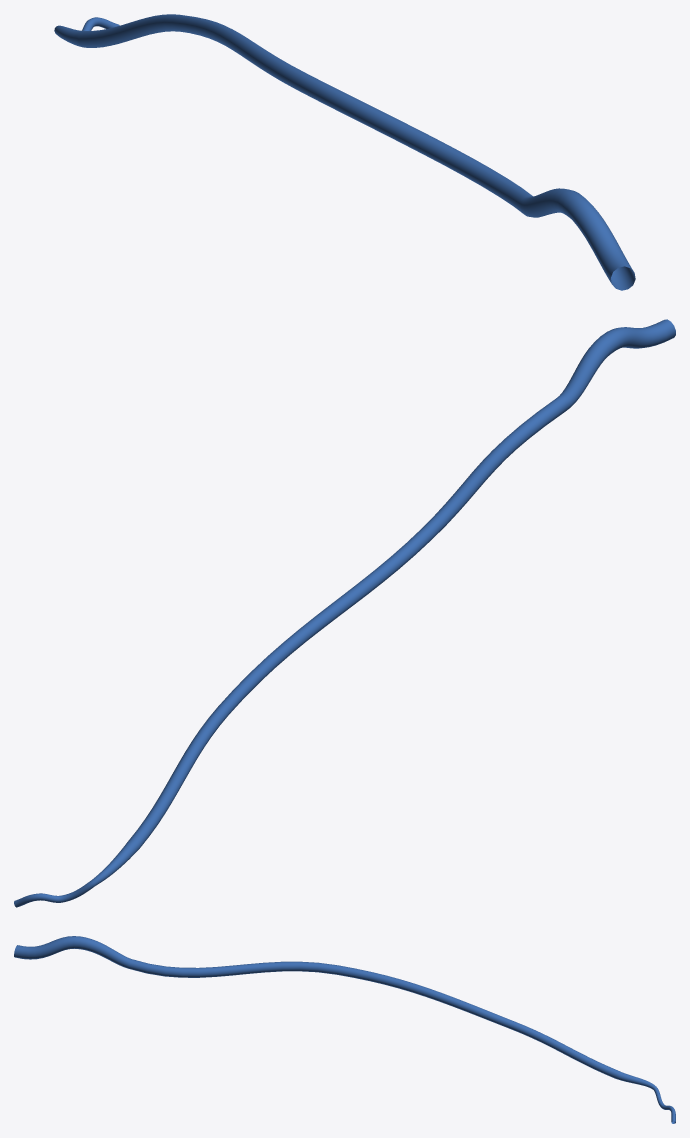
3 renders of one model, top to bottom at view 1: azimuth 30°, elevation 25°; view 2: azimuth 150°, elevation 25°; view 3: azimuth 270°, elevation 25°, orthographic. The views are drawn at different scales.
Parts seen in each view (by area): view 1: 左侧尺静脉; view 2: 左侧尺静脉; view 3: 左侧尺静脉.
Part boxes in pixels (x1,y1,x2,y2): 左侧尺静脉: (54, 14, 635, 290); 左侧尺静脉: (14, 319, 675, 907); 左侧尺静脉: (14, 936, 675, 1123).
Size of the model in its own units: 0.0436 by 0.0782 by 0.3049.
